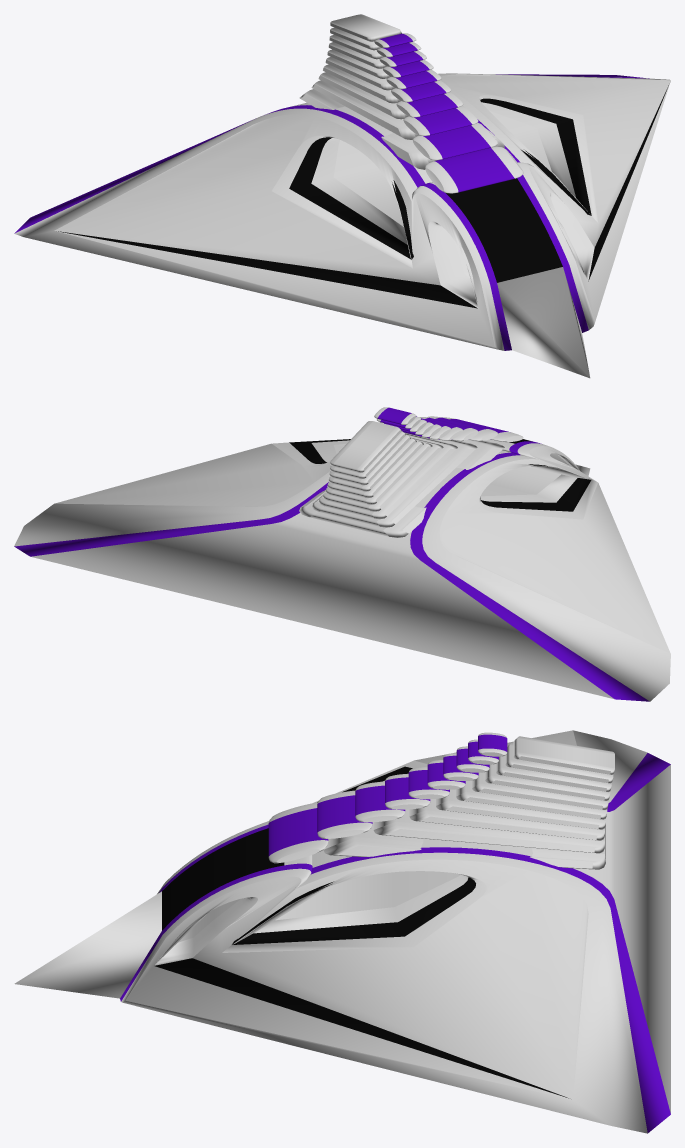
File: spaceship.dae
3 views of the same model, one above another, from view 1: azimuth 30°, elevation 25°; view 2: azimuth 150°, elevation 25°; view 3: azimuth 270°, elevation 25° (orthographic). The views are drawn at different scales.
Parts seen in each view (by area): view 1: Text; view 2: Text; view 3: Text.
Part boxes in pixels (bbox=[...]): Text: bbox=[14, 14, 670, 378]; Text: bbox=[14, 407, 670, 701]; Text: bbox=[14, 730, 670, 1133].
Bounding box in the file's own units: 1.07 × 0.7718 × 0.3142.
